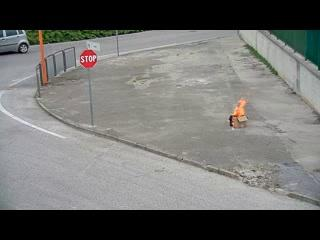fire: (231, 94, 248, 119)
